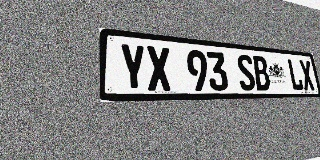3: (206, 51, 229, 91)
9: (186, 49, 210, 91)
B: (252, 55, 271, 91)
L: (287, 59, 304, 90)
S: (236, 54, 256, 91)
X: (146, 46, 172, 91), (299, 60, 315, 90)
Y: (119, 43, 147, 91)
